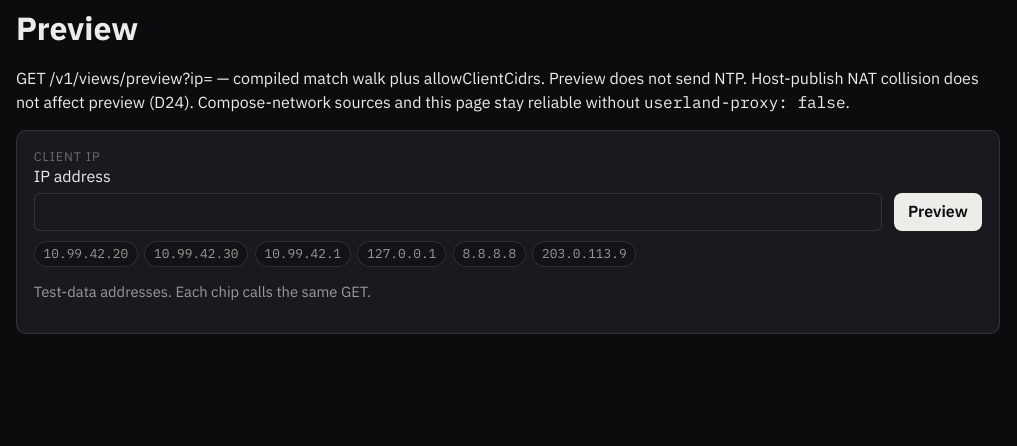
Test: PreviewPage › renders unmatched without throwing
Type "203.0.113.9" into the field labelled "IP address" at [458, 212], box top-left (34, 193), bottom-right (882, 231)
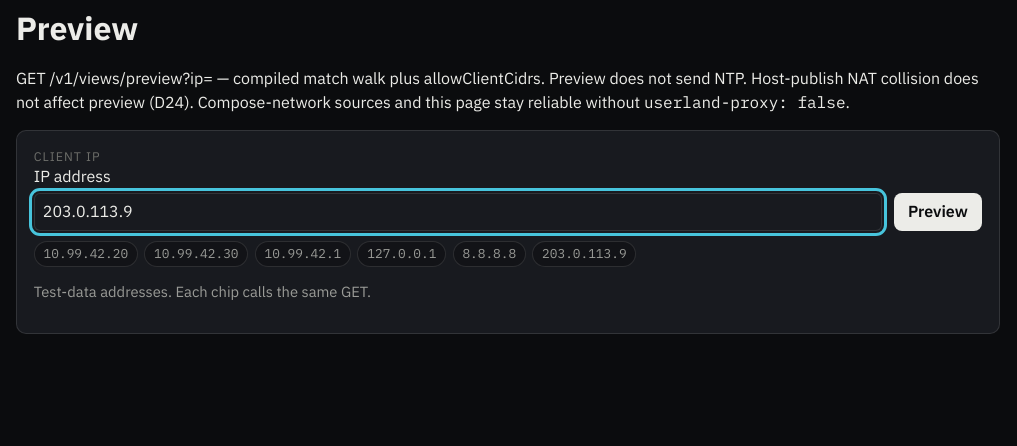
Click the button "Preview" at [938, 212], box top-left (894, 193), bottom-right (982, 231)
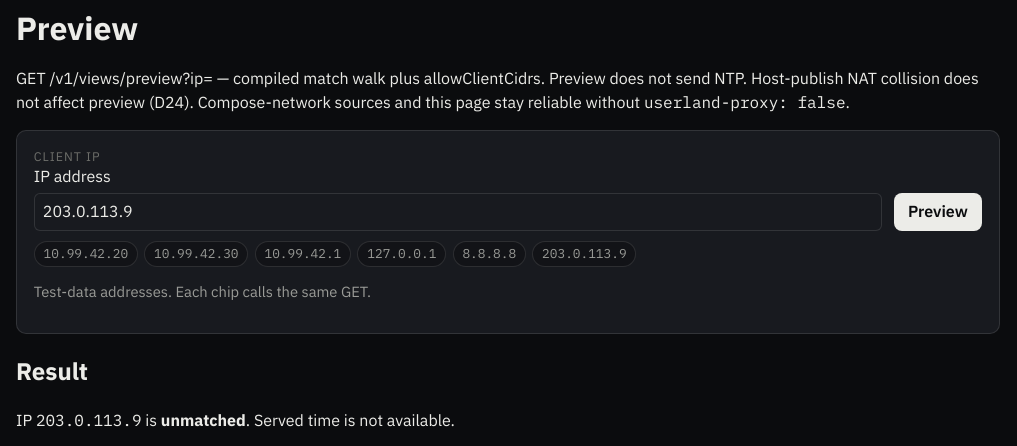
Check: the text "unmatched" is shown, box top-left (161, 410), bottom-right (246, 430)
Check: the text "IP 203.0.113.9 is unmatched. Served time is not available." is shown, box top-left (16, 410), bottom-right (455, 430)
